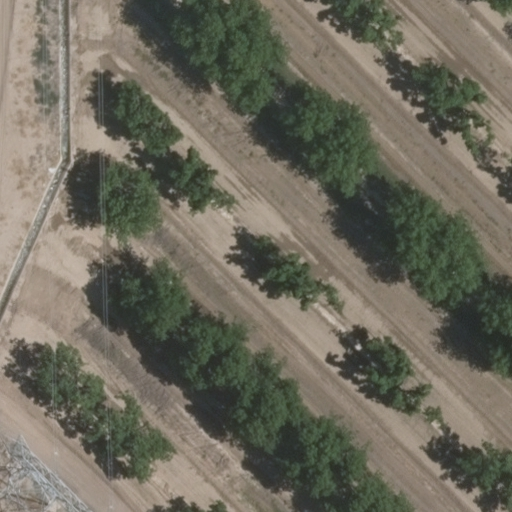TT: (1, 429, 94, 512)
